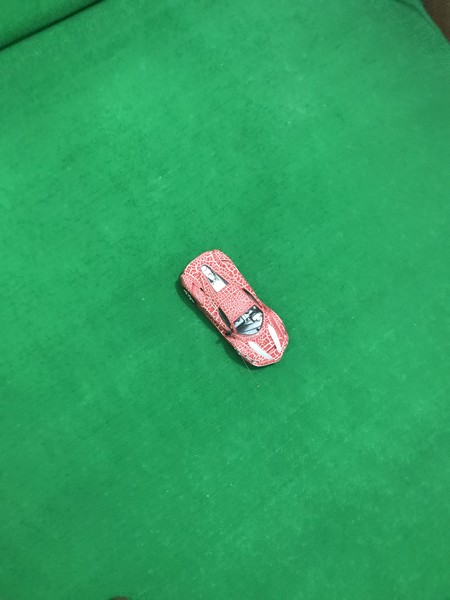RC: (177, 248, 292, 374)
